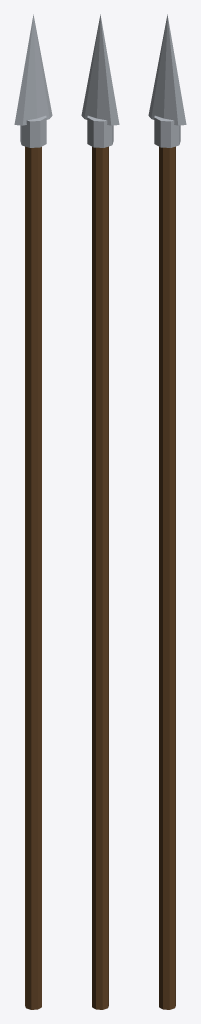
Rendered from Spear.gltf.
3 renders of one model, left to right at view 1: azimuth 30°, elevation 25°; view 2: azimuth 150°, elevation 25°; view 3: azimuth 330°, elevation 25°, orthographic.
Parts seen in each view (by area): view 1: Cylinder; view 2: Cylinder; view 3: Cylinder.
Part boxes in pixels (x1,y1,x2,y2): Cylinder: (14,14,52,1009); Cylinder: (81,14,119,1009); Cylinder: (148,14,186,1009).
Size of the model in its own units: 0.09 by 2.24 by 0.056.
